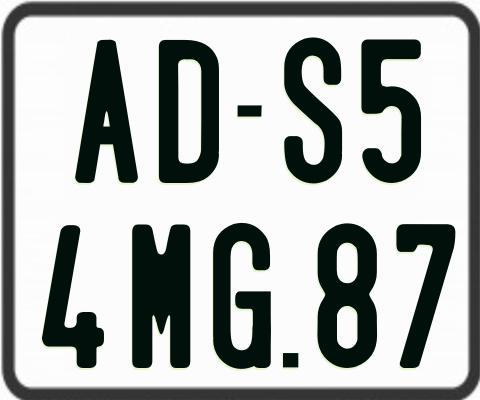4: (42, 224, 109, 371)
5: (360, 40, 420, 185)
7: (396, 221, 457, 371)
8: (316, 221, 382, 372)
A: (75, 38, 141, 182)
D: (159, 38, 221, 187)
G: (213, 220, 275, 370)
M: (130, 224, 191, 368)
S: (282, 36, 345, 184)
